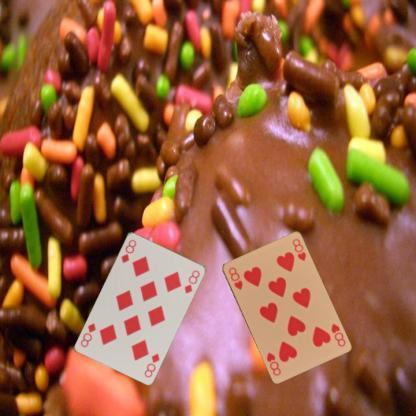8d: (119, 236, 138, 264), (142, 351, 160, 378)
8h: (226, 264, 244, 292), (328, 320, 346, 348)
